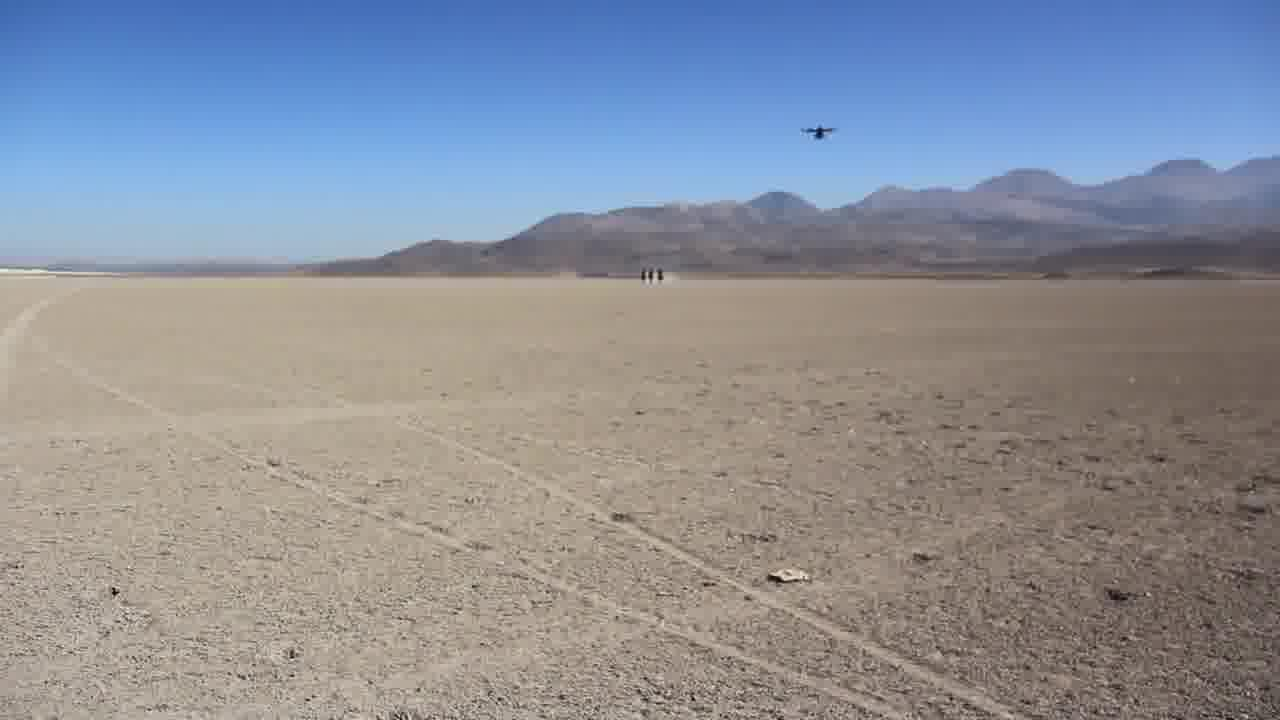drone: (792, 119, 839, 144)
